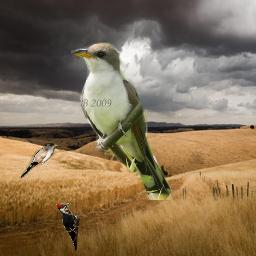Cuckoo: (71, 41, 171, 200), (19, 143, 58, 179)
Woodpecker: (56, 202, 80, 254)
